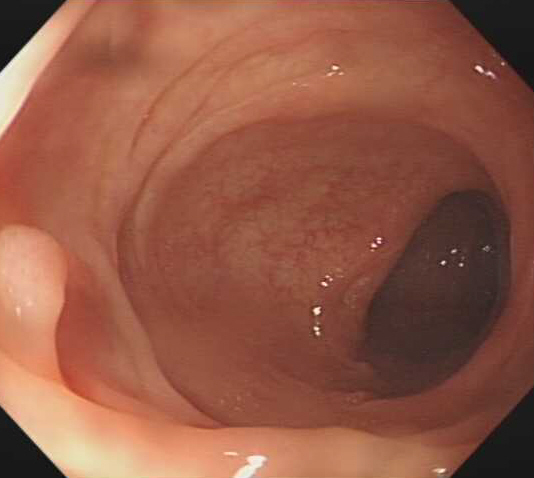adenoma: (1, 222, 70, 344)
